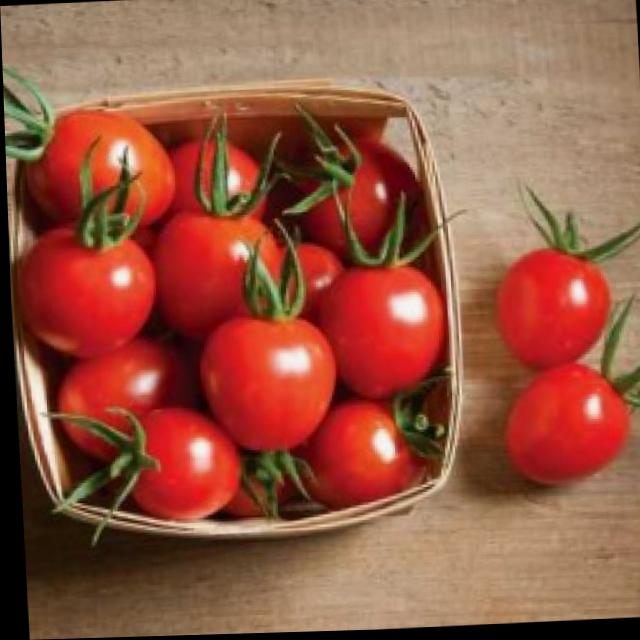tomato: (19, 106, 179, 258), (194, 312, 338, 458), (12, 222, 156, 365), (313, 265, 449, 408), (152, 207, 288, 347), (497, 361, 631, 494), (48, 336, 184, 467), (290, 132, 425, 261), (281, 394, 419, 514), (486, 244, 611, 374), (123, 406, 241, 526)
